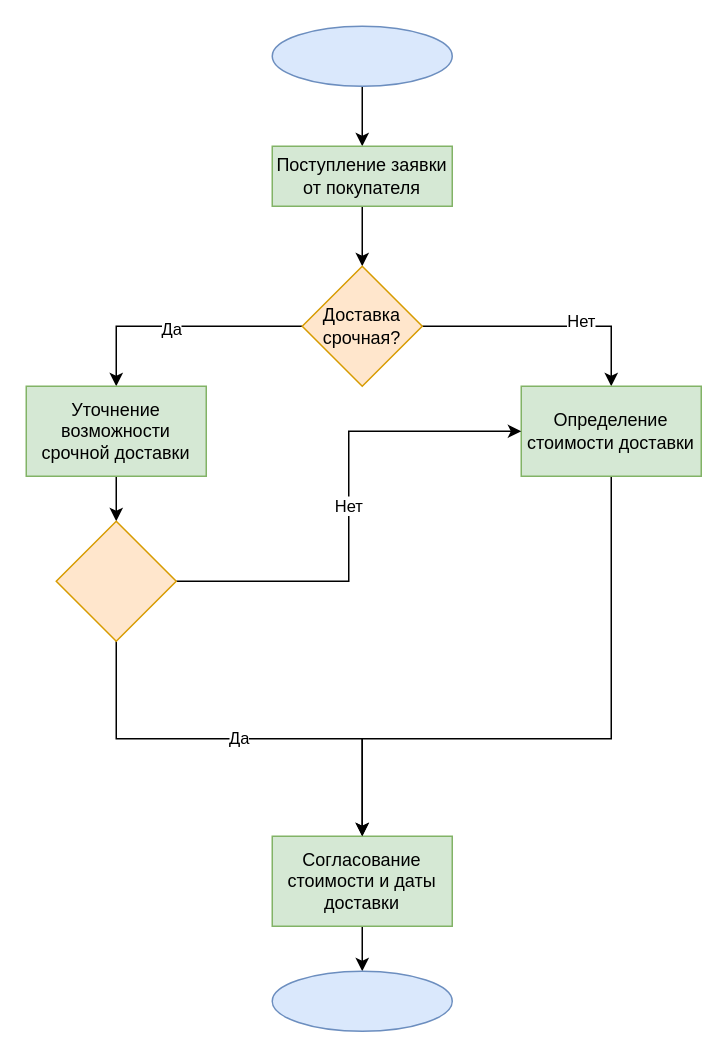
Image size: 728x1058. Some labels were removed from this diagram. The shapes that lost their labels are listed below. From the top down, each one's centre as x and y in pixels, then its label:
At [361,55]: "Начало".
At [115,580]: "Возможна ли срочная доставка?".
At [361,1000]: "Конец".
